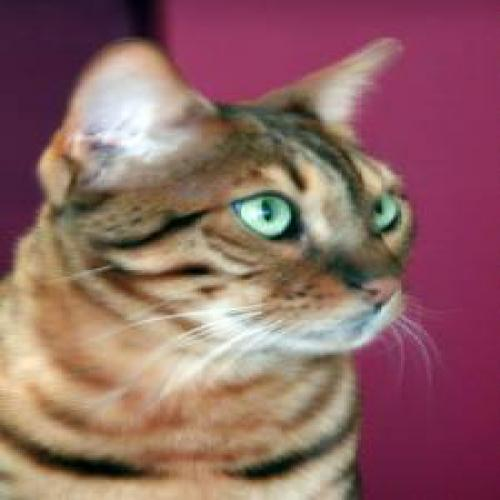bengal: (32, 35, 485, 367)
